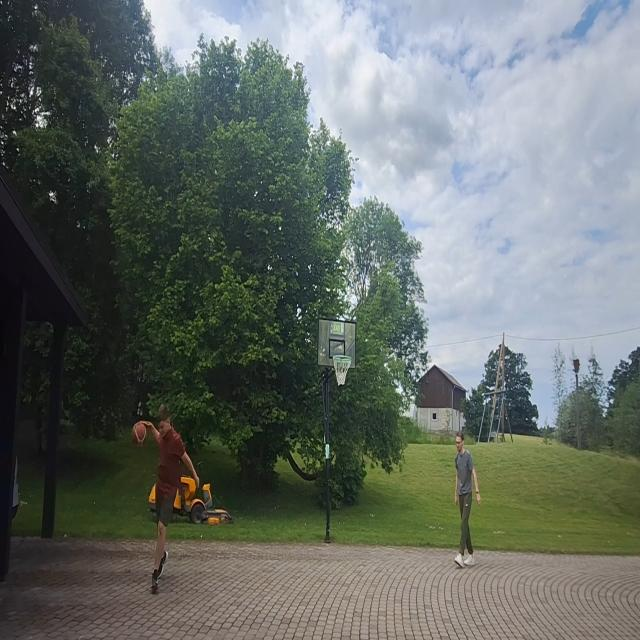ball: (132, 421, 147, 452)
basket: (332, 352, 353, 388)
player: (144, 406, 202, 594), (452, 429, 481, 573)
